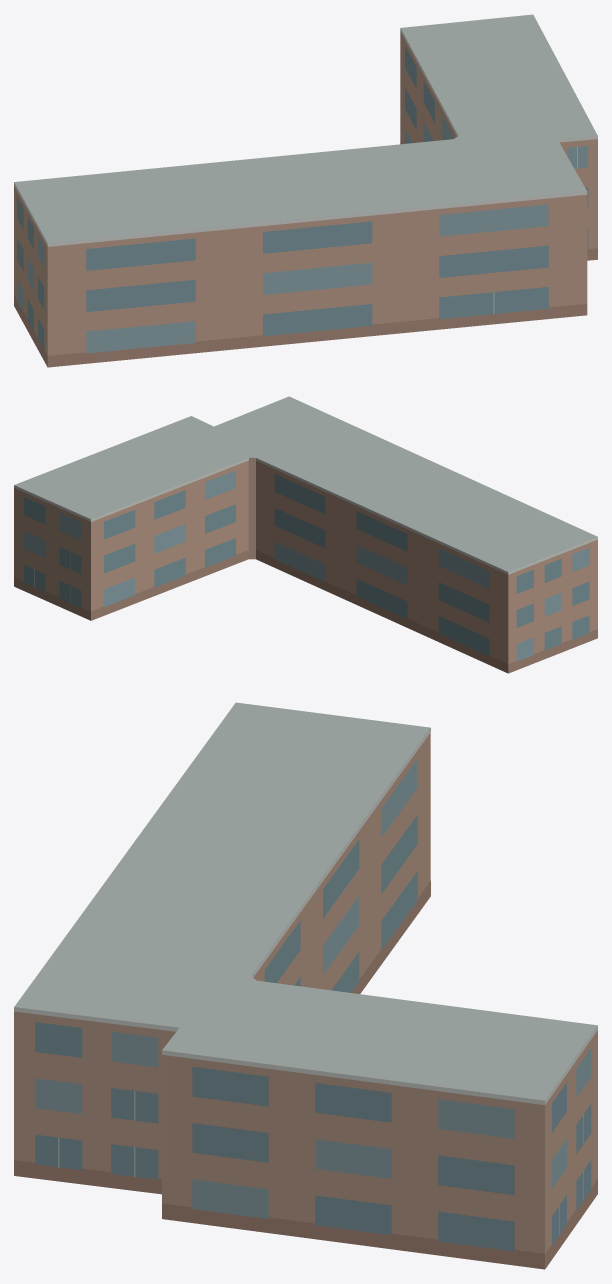
The model's file is survey-upis-32520167.glb.
The picture shows the model from 3 angles, top to bottom: view 1: azimuth 30°, elevation 25°; view 2: azimuth 150°, elevation 25°; view 3: azimuth 270°, elevation 25°; orthographic projection. The views are drawn at different scales.
Visible parts, largest first — view 1: survey-upis-32520167.tmp; view 2: survey-upis-32520167.tmp; view 3: survey-upis-32520167.tmp.
Part boxes in pixels (x1,y1,x2,y2): survey-upis-32520167.tmp: [14, 14, 597, 367]; survey-upis-32520167.tmp: [14, 396, 597, 673]; survey-upis-32520167.tmp: [14, 702, 597, 1269].
Bounding box in the file's own units: 46.32 × 9.15 × 28.69.
